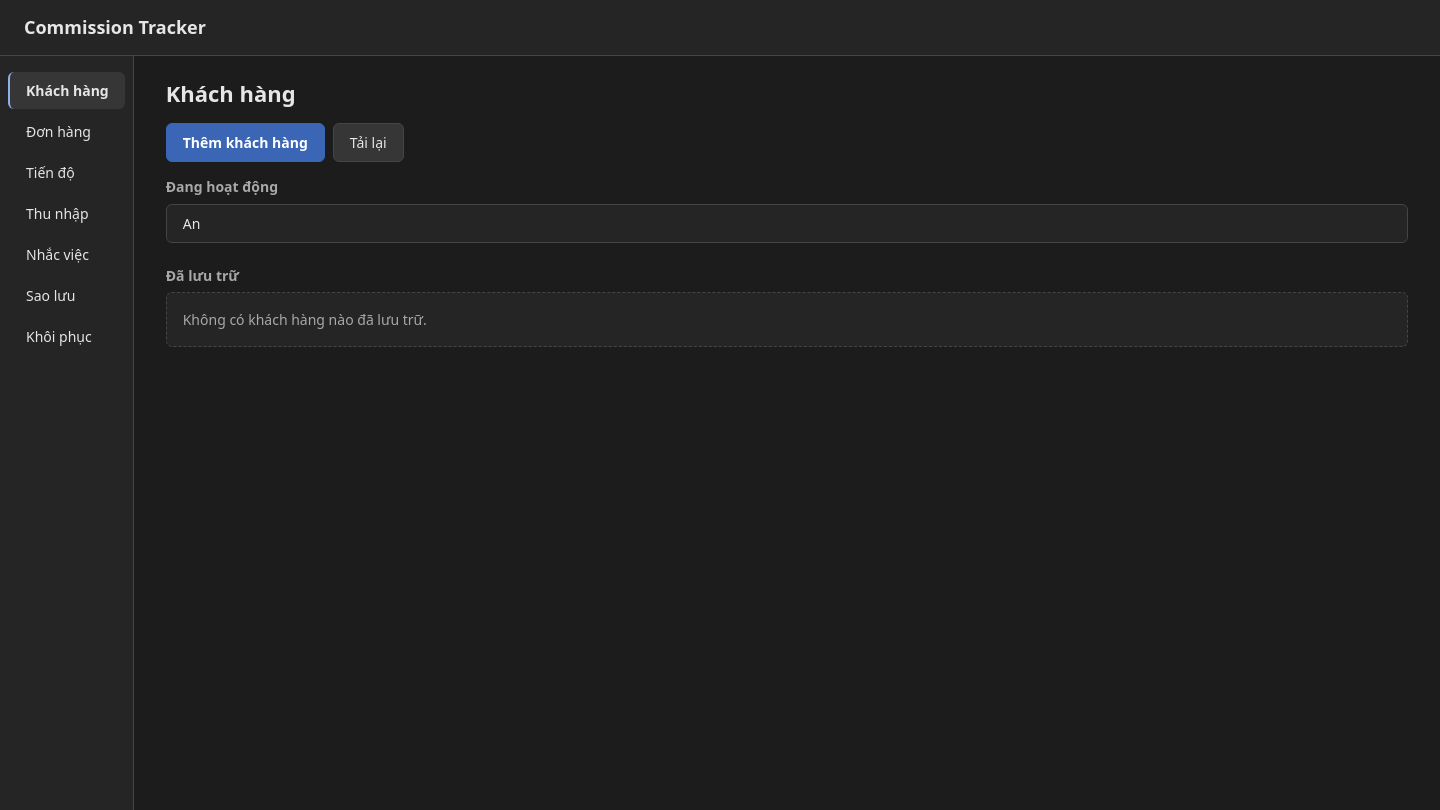
Test: AppRoot › "Thu nhập" opens income_report, marked current, the other four not; the report loads once; leaving it marks the item it goes to
expect the button "An" is shown: met, box 167,204 -> 1407,242
Click the button "Thu nhập" at [66, 213], box 8,194 -> 125,232
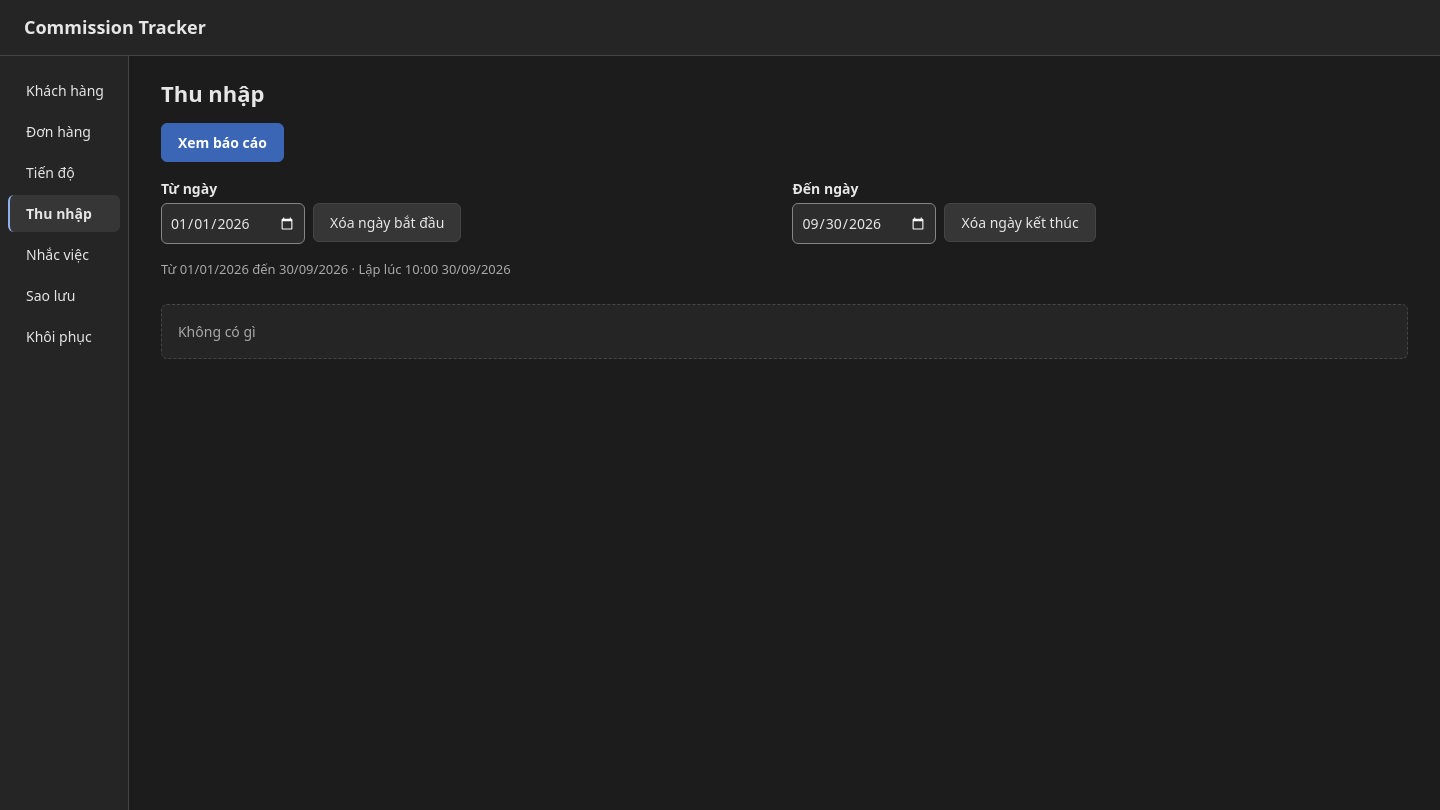
expect the heading "Thu nhập" is shown: met, box 161,78 -> 264,108
expect the text "Không có gì" is shown: met, box 178,320 -> 256,342
Click the button "Khách hàng" at [64, 90], box 8,72 -> 120,108
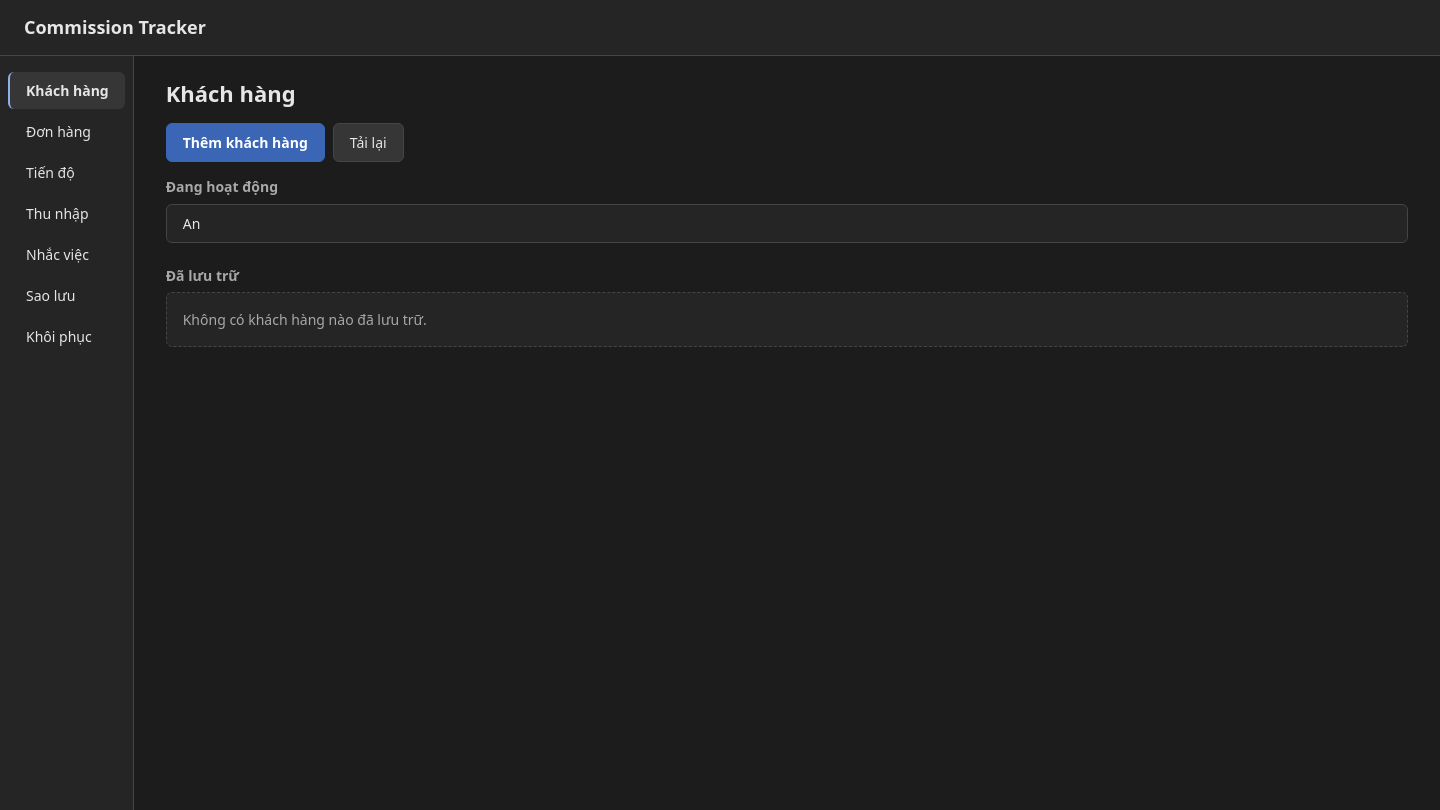
expect the heading "Khách hàng" is shown: met, box 166,78 -> 296,108
